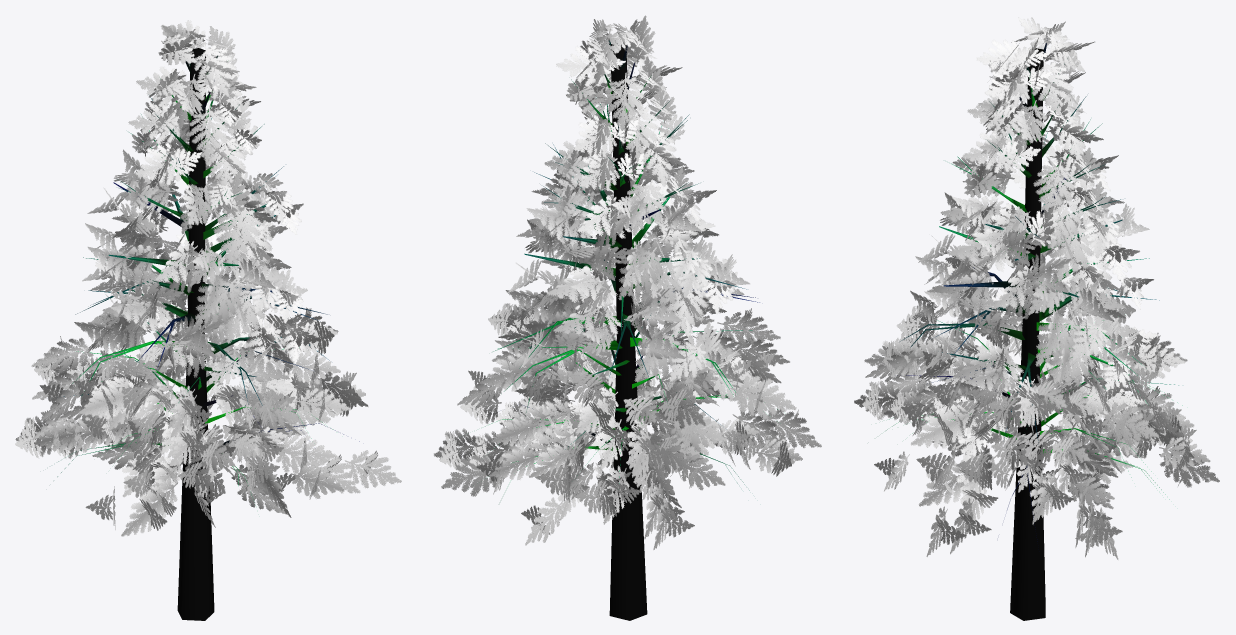
File: Spruce_LOD0_v3.fbx
3 renders of one model, left to right at view 1: azimuth 30°, elevation 25°; view 2: azimuth 150°, elevation 25°; view 3: azimuth 270°, elevation 25°, orthographic. The views are drawn at different scales.
Visible parts, largest first — view 1: leafcard_spruce_01_1, white-spruce-tree-bark-albedo_0; view 2: leafcard_spruce_01_1, white-spruce-tree-bark-albedo_0; view 3: leafcard_spruce_01_1, white-spruce-tree-bark-albedo_0.
Part boxes in pixels (left/top/right/bottom): leafcard_spruce_01_1: left=15, top=20, right=401, bottom=536; white-spruce-tree-bark-albedo_0: left=57, top=48, right=359, bottom=620; leafcard_spruce_01_1: left=434, top=15, right=821, bottom=549; white-spruce-tree-bark-albedo_0: left=485, top=40, right=759, bottom=620; leafcard_spruce_01_1: left=854, top=17, right=1219, bottom=559; white-spruce-tree-bark-albedo_0: left=886, top=38, right=1182, bottom=620.
Bounding box in the file's own units: 551 × 942 × 533.
